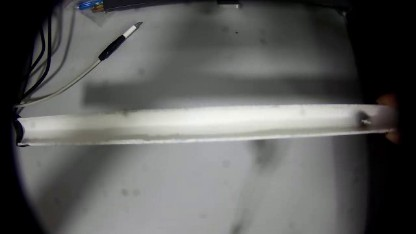gangzhu: (356, 112, 371, 127)
